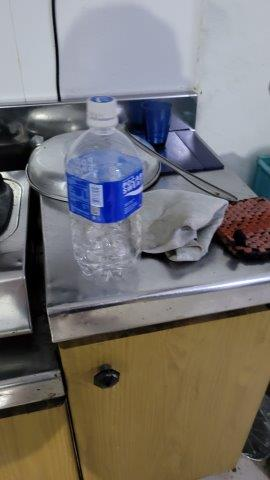botolplastik: (63, 95, 144, 284)
